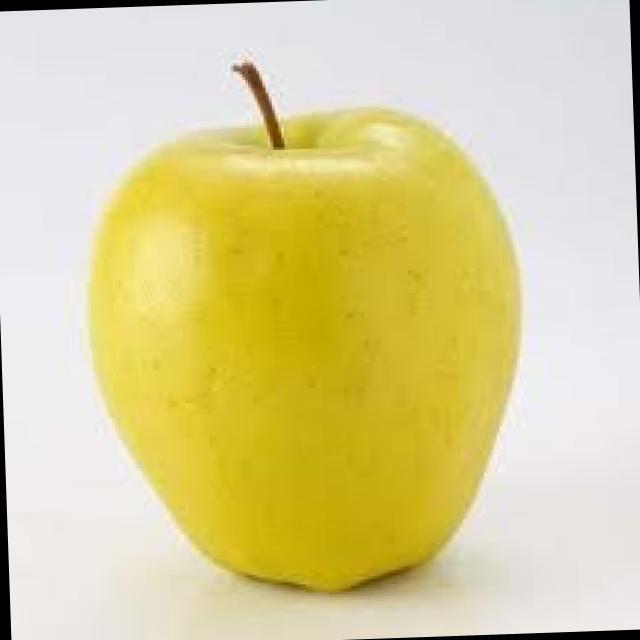Apple: (56, 31, 570, 608)
